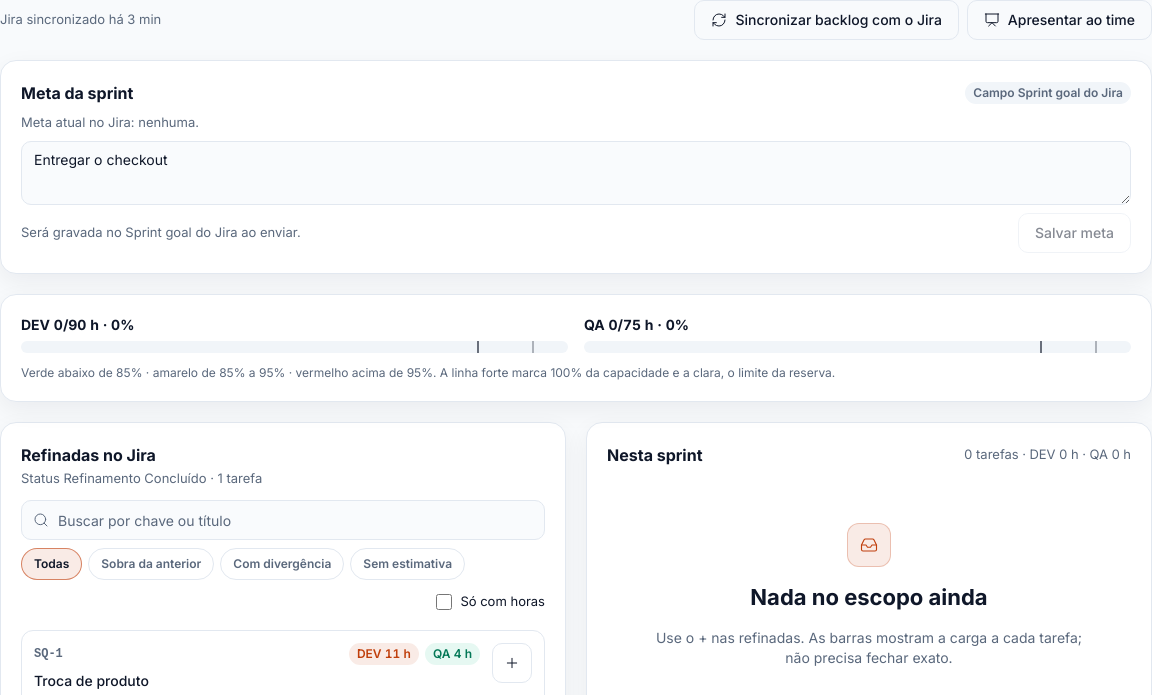
Test: Escopo: sincronizar o backlog › 429 mostra "Tente de novo em N s" e trava o botão
Click the button "Sincronizar backlog com o Jira" at (827, 20), box [694,0,959,40]
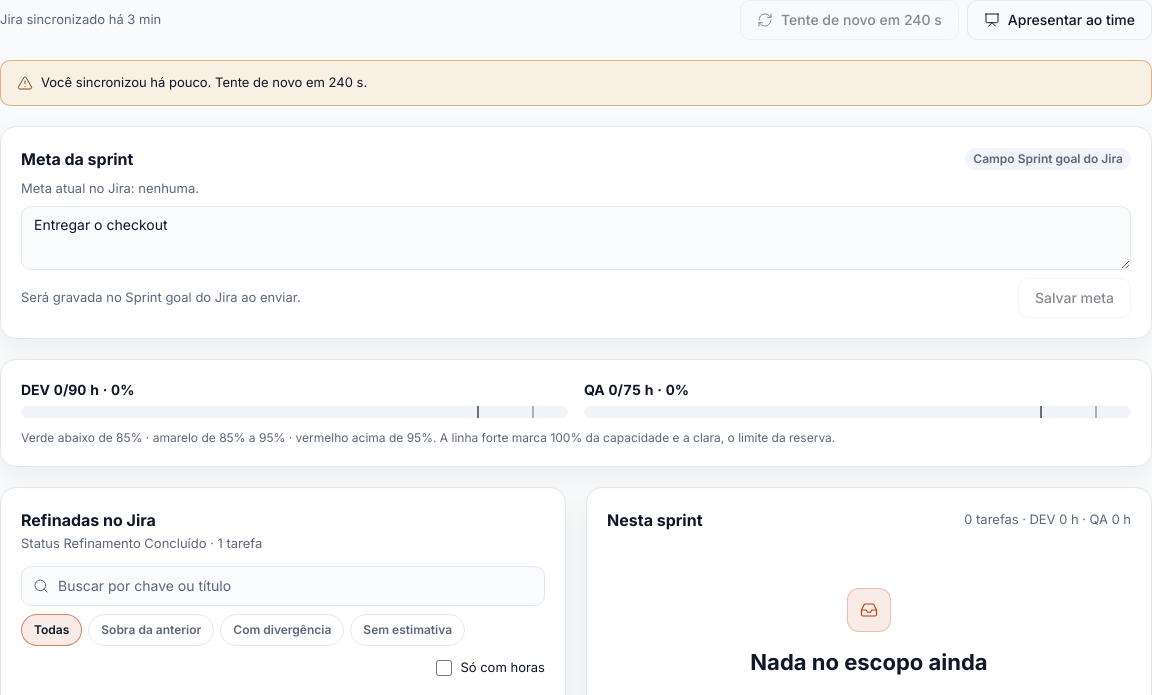
Expected: the message with test id "escopo-sync-aviso" shows "Tente de novo em 240 s", [41,74,367,90]
Expected: the button "Tente de novo em 240 s" is disabled, [740,0,959,40]
